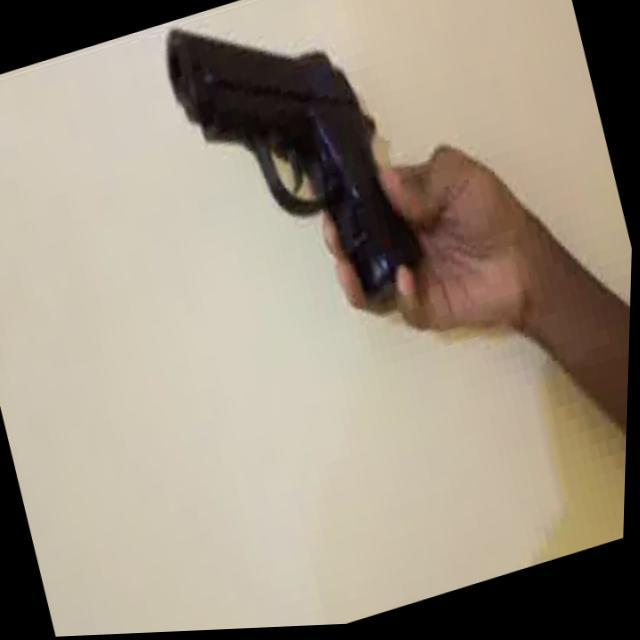weapon: (149, 0, 438, 351)
